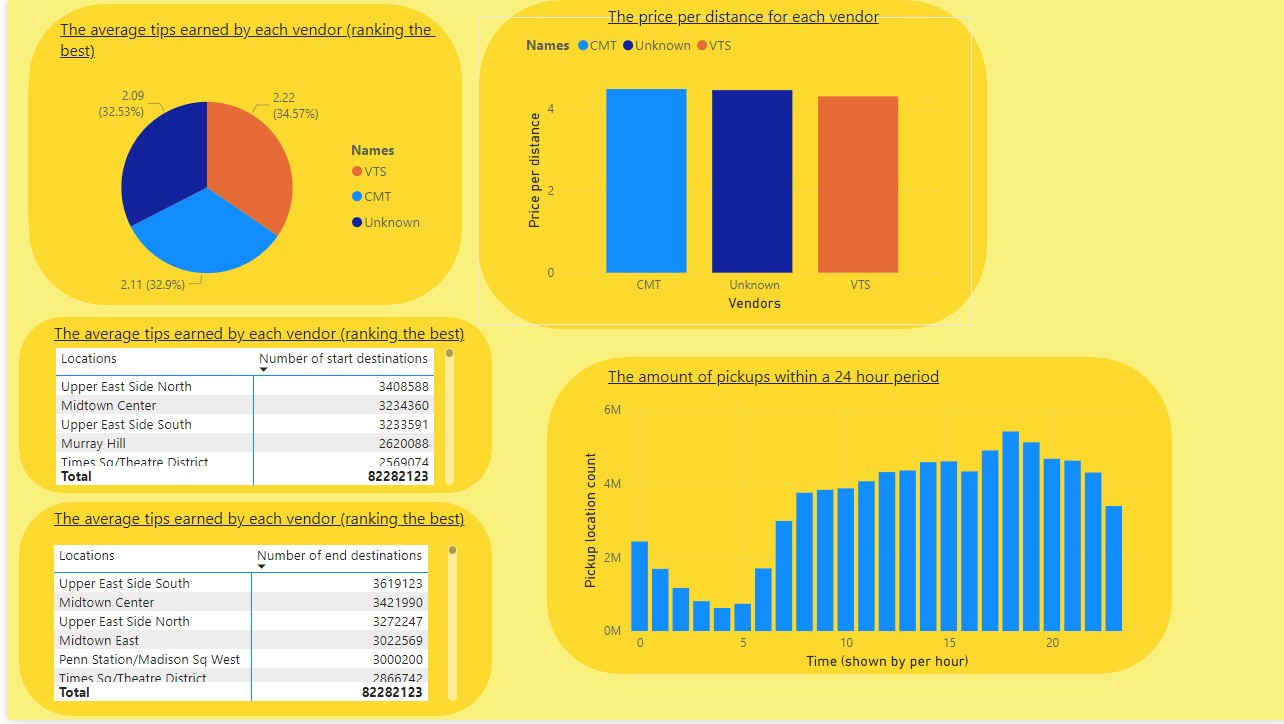

Layout of this report page (visuals, bound fields, positions):
{"tool":"powerbi","page":{"name":"Page 1","canvas":[1280,720],"ordinal":0},"visuals":[{"type":"shape","box":[470.5,17.3,493.9,307.5],"z":0,"group":"g2"},{"type":"shape","box":[538.9,356.7,625,317.8],"z":0},{"type":"shape","box":[538.9,385,625,288.9],"z":0,"group":"g1"},{"type":"shape","box":[21.1,4.4,433.3,300.6],"z":500,"group":"g3"},{"type":"clusteredColumnChart","fields":{"Category":["`hive_metastore` `default` `time_dim`.hour"],"Y":["CountNonNull(`hive_metastore` `default` `taxi_fact_tab`.pickup_time_id)"]},"box":[569.2,396.2,570.2,277.7],"z":500,"group":"g1"},{"type":"columnChart","fields":{"Y":["`hive_metastore` `default` `taxi_fact_tab`.Price_per_distance"],"Category":["`hive_metastore` `default` `vendor_dim`.vendor_name"],"Series":["`hive_metastore` `default` `vendor_dim`.vendor_name"]},"box":[513.3,25.4,429.7,291.2],"z":1000,"group":"g2"},{"type":"shape","box":[20.4,33.4,416.5,244.4],"z":1000,"group":"g3"},{"type":"shape","box":[11.1,316.7,473.3,176.7],"z":1000},{"type":"shape","box":[470.6,0,508.9,328.9],"z":2000},{"type":"pieChart","fields":{"Y":["`hive_metastore` `default` `taxi_fact_tab`.average_tip_amount"],"Category":["`hive_metastore` `default` `vendor_dim`.vendor_name"]},"box":[50.7,57.5,375.6,261.1],"z":2000,"group":"g3"},{"type":"pivotTable","fields":{"Rows":["`hive_metastore` `default` `location_dim` (2).location_name"],"Values":["`hive_metastore` `default` `taxi_fact_tab`.pickup_count"]},"box":[43.3,343.3,407.8,146.7],"z":3000},{"type":"shape","box":[11.1,502.2,473.3,213.3],"z":4000},{"type":"pivotTable","fields":{"Rows":["`hive_metastore` `default` `location_dim`.location_name"],"Values":["`hive_metastore` `default` `taxi_fact_tab`.dropoff_count"]},"box":[41.1,540,413.3,165.6],"z":5000},{"type":"group","id":"g1","title":"Group 3","box":[538.9,385,625,288.9],"z":6000},{"type":"group","id":"g2","title":"Group 2","box":[470.5,17.3,493.9,307.5],"z":7000},{"type":"group","id":"g3","title":"Group 1","box":[20.4,4.4,434,314.2],"z":8000},{"type":"textbox","box":[47.2,13.3,390,62.2],"z":9000},{"type":"textbox","box":[595,0,414.4,56.1],"z":10000},{"type":"textbox","box":[595,360,449.4,56.1],"z":11000},{"type":"textbox","box":[41.1,316.7,448.9,55.6],"z":12000},{"type":"textbox","box":[41.1,502.2,425.6,55.6],"z":13000}]}

Visuals, with their boxes in screenshot pixels (x1, y1, x2, y2), scaled from the page's 1280x720 canvas onto the 1284x724 screenshot:
shape: select_region(472, 17, 967, 327)
shape: select_region(541, 359, 1168, 678)
shape: select_region(541, 387, 1168, 678)
shape: select_region(21, 4, 456, 307)
clusteredColumnChart - `hive_metastore` `default` `time_dim`.hour x CountNonNull(`hive_metastore` `default` `taxi_fact_tab`.pickup_time_id): select_region(571, 398, 1143, 678)
columnChart - `hive_metastore` `default` `taxi_fact_tab`.Price_per_distance x `hive_metastore` `default` `vendor_dim`.vendor_name: select_region(515, 26, 946, 318)
shape: select_region(20, 34, 438, 279)
shape: select_region(11, 318, 486, 496)
shape: select_region(472, 0, 983, 331)
pieChart - `hive_metastore` `default` `taxi_fact_tab`.average_tip_amount x `hive_metastore` `default` `vendor_dim`.vendor_name: select_region(51, 58, 428, 320)
pivotTable - `hive_metastore` `default` `location_dim` (2).location_name x `hive_metastore` `default` `taxi_fact_tab`.pickup_count: select_region(43, 345, 453, 493)
shape: select_region(11, 505, 486, 719)
pivotTable - `hive_metastore` `default` `location_dim`.location_name x `hive_metastore` `default` `taxi_fact_tab`.dropoff_count: select_region(41, 543, 456, 710)
"Group 3" group: select_region(541, 387, 1168, 678)
"Group 2" group: select_region(472, 17, 967, 327)
"Group 1" group: select_region(20, 4, 456, 320)
textbox: select_region(47, 13, 439, 76)
textbox: select_region(597, 0, 1013, 56)
textbox: select_region(597, 362, 1048, 418)
textbox: select_region(41, 318, 492, 374)
textbox: select_region(41, 505, 468, 561)
